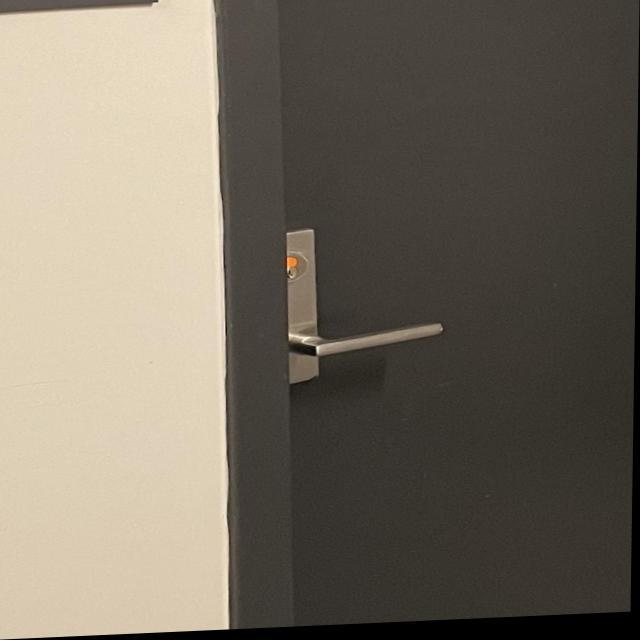door_handle: (270, 309, 457, 388)
